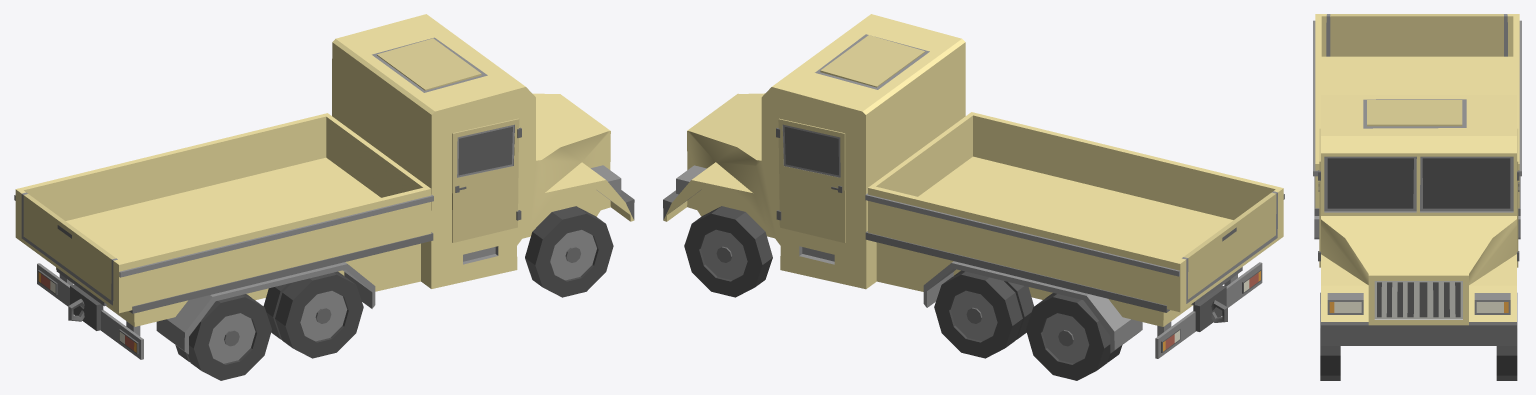
The model's file is kar5.fbx.
3 views of the same model, side by side, from view 1: azimuth 30°, elevation 25°; view 2: azimuth 150°, elevation 25°; view 3: azimuth 270°, elevation 25° (orthographic).
Parts seen in each view (by area): view 1: Boole_3, Cylinder_11, Cylinder_3, Cylinder_2; view 2: Boole_3, Cylinder_5, Cylinder_6, Cylinder_1; view 3: Boole_3, Cylinder_6, Cylinder_3.
Part boxes in pixels (<box>): Boole_3: <box>14,14,634,359</box>; Cylinder_11: <box>263,271,363,358</box>; Cylinder_3: <box>525,206,613,297</box>; Cylinder_2: <box>175,294,271,380</box>; Boole_3: <box>663,14,1284,358</box>; Cylinder_5: <box>934,270,1033,358</box>; Cylinder_6: <box>684,206,772,297</box>; Cylinder_1: <box>1026,293,1122,380</box>; Boole_3: <box>1313,14,1521,345</box>; Cylinder_6: <box>1496,293,1517,380</box>; Cylinder_3: <box>1320,292,1340,380</box>.
Size of the model in its own units: 662 by 269 by 234.
